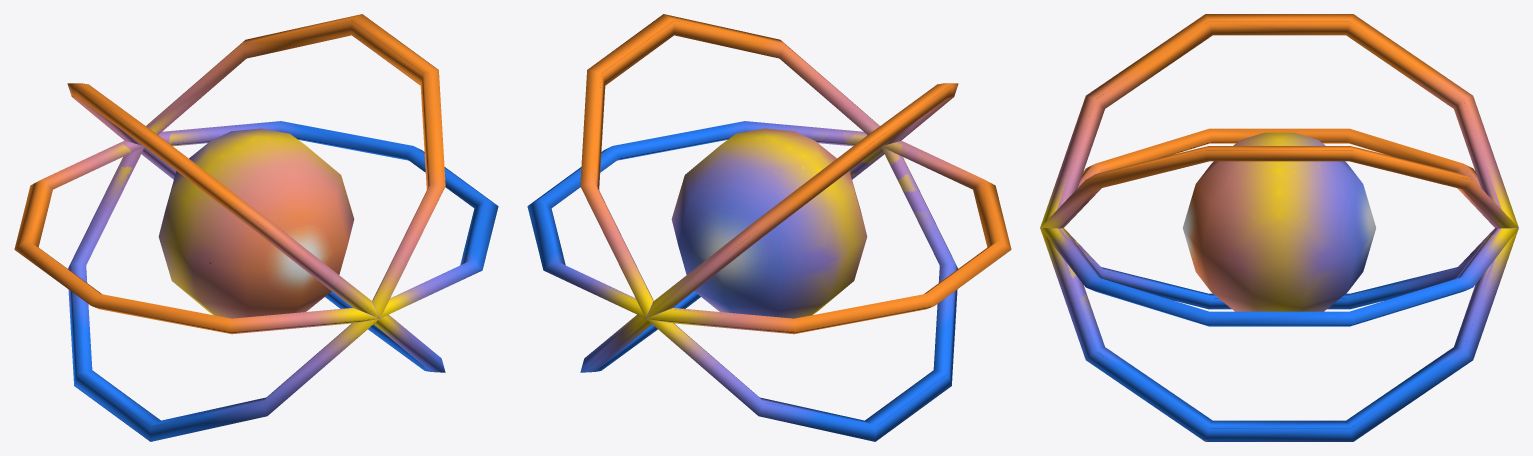
File: electricball.obj
The picture shows the model from 3 angles, left to right: view 1: azimuth 30°, elevation 25°; view 2: azimuth 150°, elevation 25°; view 3: azimuth 270°, elevation 25°; orthographic projection. The views are drawn at different scales.
Visible parts, largest first — view 1: Circle.003_Circle.005; view 2: Circle.003_Circle.005; view 3: Circle.003_Circle.005.
Boxes of the visible parts, box(x1,y1,x2,y2) form: Circle.003_Circle.005: box(14, 14, 498, 441); Circle.003_Circle.005: box(527, 14, 1011, 441); Circle.003_Circle.005: box(1040, 14, 1518, 441).
Size of the model in its own units: 0.2592 by 0.1833 by 0.2725.
